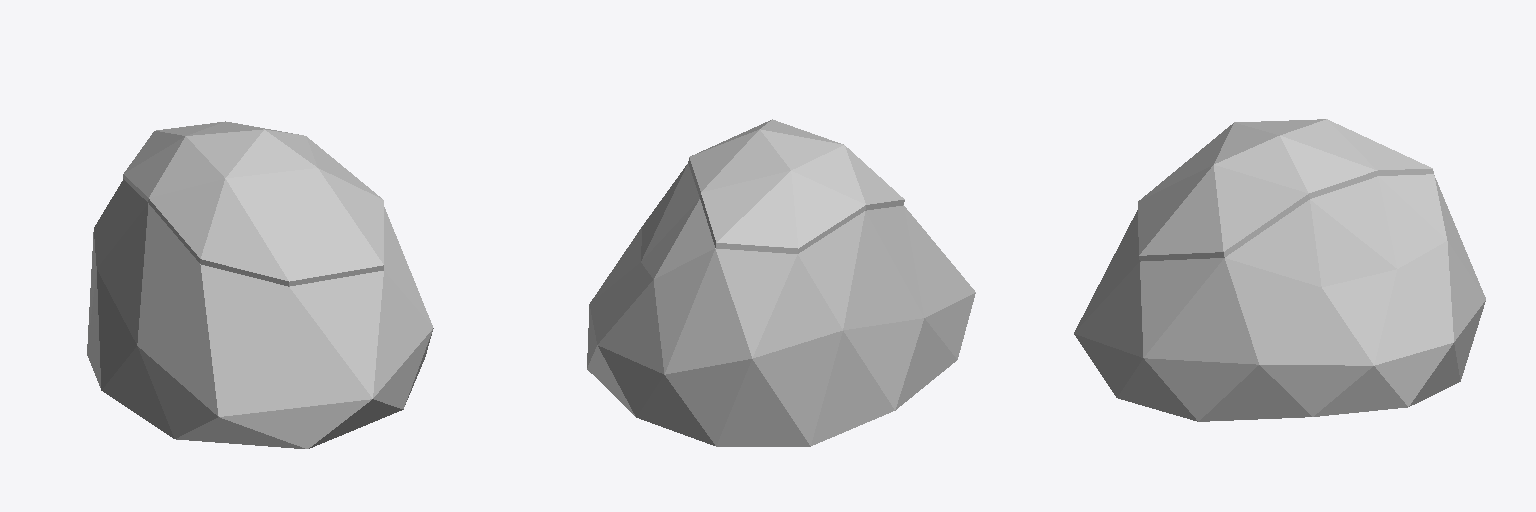
Rendered from low_poly_winter_stone3.obj.
The picture shows the model from 3 angles: view 1: azimuth 30°, elevation 25°; view 2: azimuth 150°, elevation 25°; view 3: azimuth 270°, elevation 25°; orthographic projection.
Parts seen in each view (by area): view 1: Icosphere.007_Icosphere.001; view 2: Icosphere.007_Icosphere.001; view 3: Icosphere.007_Icosphere.001.
Boxes of the visible parts, box(x1,y1,x2,y2) form: Icosphere.007_Icosphere.001: box(87, 121, 433, 448); Icosphere.007_Icosphere.001: box(587, 119, 975, 446); Icosphere.007_Icosphere.001: box(1074, 119, 1485, 421).
Size of the model in its own units: 1.16 by 0.9786 by 1.47.